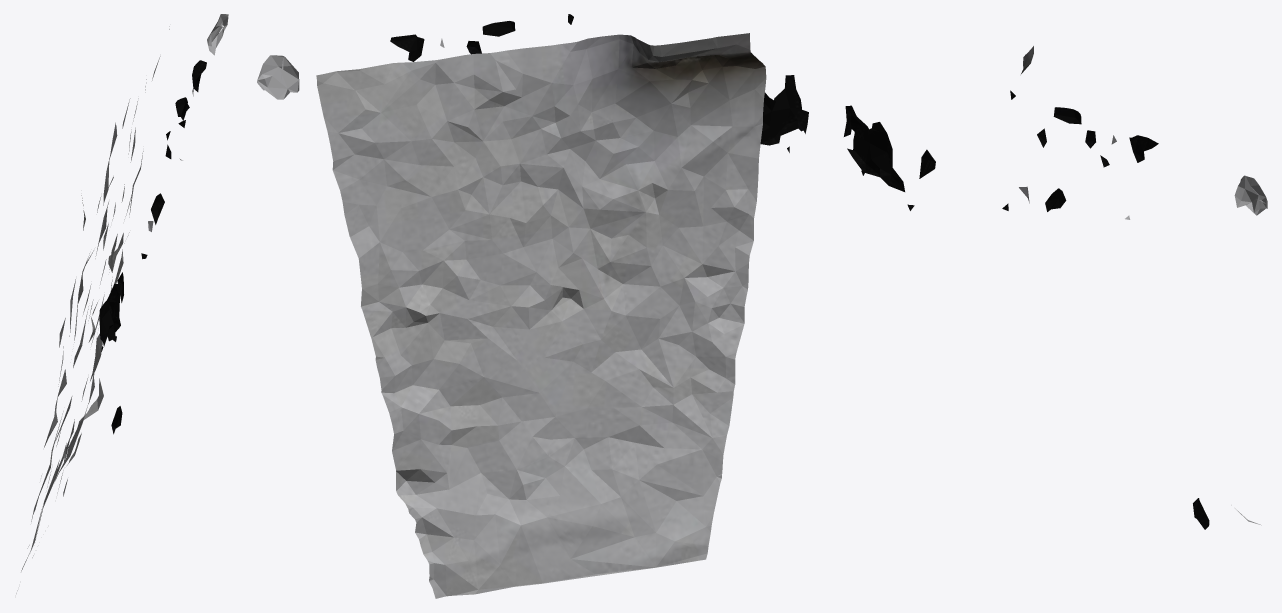
3 views of the same model, side by side, from view 1: azimuth 30°, elevation 25°; view 2: azimuth 150°, elevation 25°; view 3: azimuth 270°, elevation 25° (orthographic). The views are drawn at different scales.
Size of the model in its own units: 0.6051 by 0.8373 by 0.6473.
Materials: 2 (2 with a texture image).
